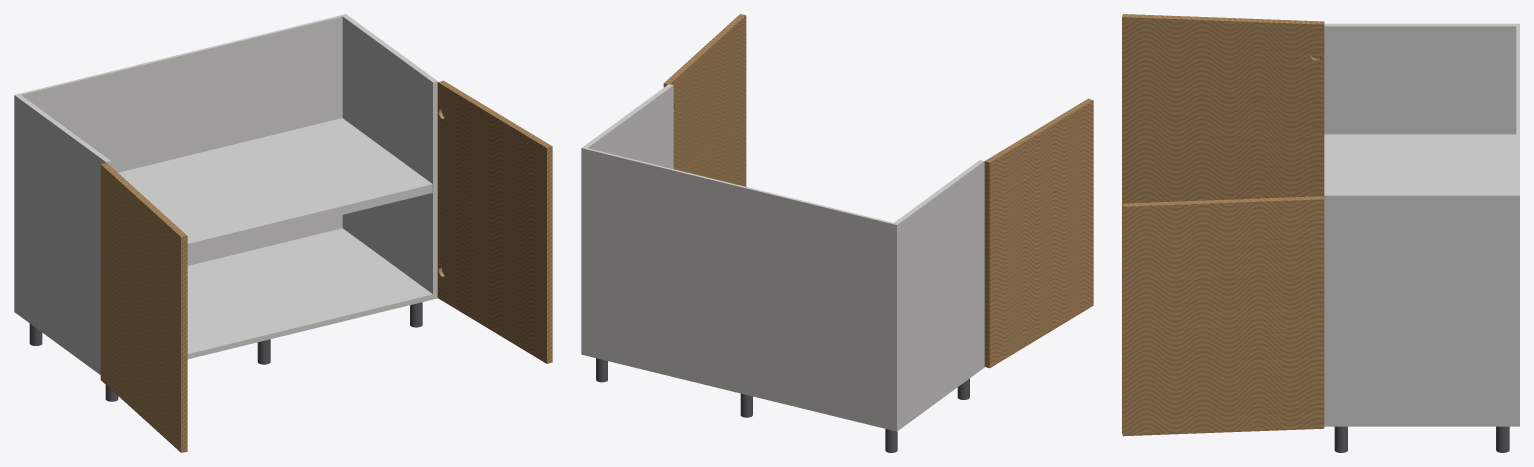
File: w1200_none_pair_open.glb
3 views of the same model, side by side, from view 1: azimuth 30°, elevation 25°; view 2: azimuth 150°, elevation 25°; view 3: azimuth 270°, elevation 25° (orthographic). The views are drawn at different scales.
Parts seen in each view (by area): view 1: white, oak, leg; view 2: white, oak, leg; view 3: oak, white, leg.
Boxes of the visible parts, x1,y1,x2,y2 form: white: (14, 14, 437, 374); oak: (100, 80, 552, 452); leg: (29, 302, 422, 401); white: (581, 84, 984, 431); oak: (663, 14, 1093, 368); leg: (596, 358, 969, 452); oak: (1122, 14, 1324, 436); white: (1324, 23, 1519, 426); leg: (1334, 426, 1509, 452).
Bounding box in the file's own units: 1.34 × 0.85 × 1.17.
3 materials, 1 textured.
